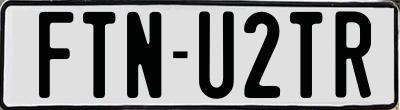2: (242, 10, 282, 97)
F: (39, 10, 78, 99)
N: (126, 11, 165, 103)
R: (333, 9, 370, 97)
T: (81, 10, 119, 98), (288, 12, 324, 98)
U: (196, 8, 235, 101)
